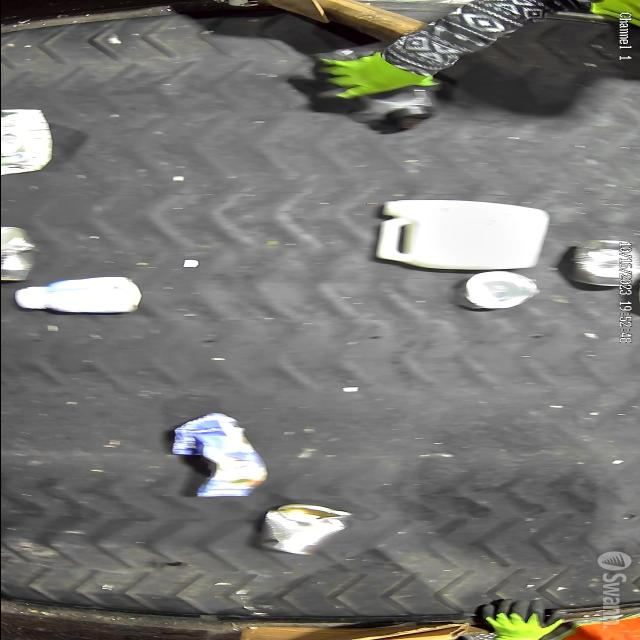can: (244, 504, 348, 554), (454, 264, 544, 314), (560, 238, 640, 292), (0, 226, 36, 286)
milk_jug: (372, 196, 544, 276)
